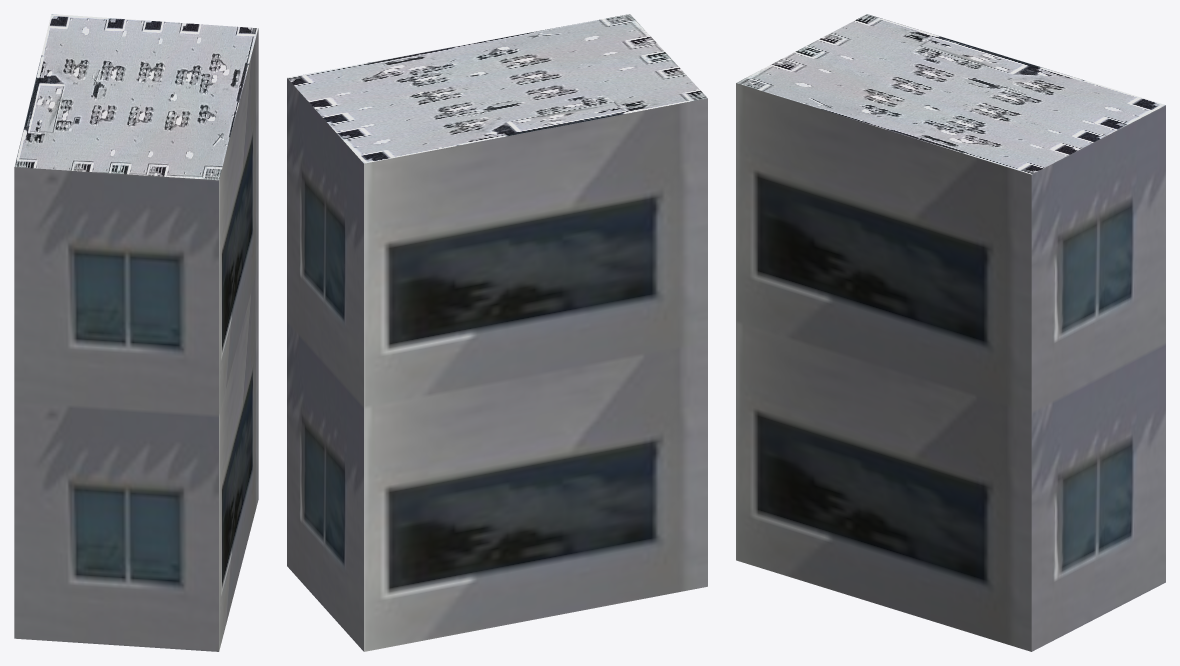
File: ResTex__1022.fbx
3 views of the same model, side by side, from view 1: azimuth 30°, elevation 25°; view 2: azimuth 150°, elevation 25°; view 3: azimuth 270°, elevation 25° (orthographic). The views are drawn at different scales.
Visible parts, largest first — view 1: CityEngineMaterial_10_m, CityEngineMaterial_m; view 2: CityEngineMaterial_10_m, CityEngineMaterial_m; view 3: CityEngineMaterial_10_m, CityEngineMaterial_m.
Boxes of the visible parts, <box> form: CityEngineMaterial_10_m: <box>14,28,258,651</box>; CityEngineMaterial_m: <box>14,14,258,180</box>; CityEngineMaterial_10_m: <box>287,78,707,651</box>; CityEngineMaterial_m: <box>287,14,707,163</box>; CityEngineMaterial_10_m: <box>736,83,1165,651</box>; CityEngineMaterial_m: <box>736,14,1165,174</box>.
Size of the model in its own units: 4.33 by 6 by 4.9.
2 materials, 2 textured.
